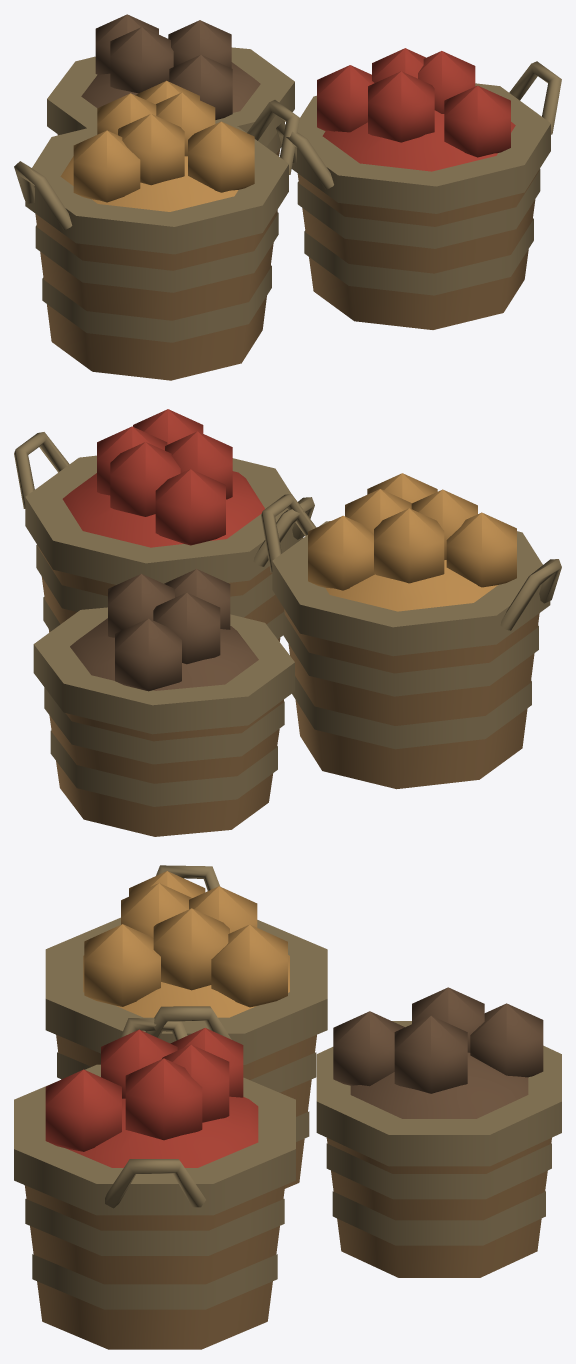
The model's file is goods_basket_s.glb.
The picture shows the model from 3 angles, top to bottom: view 1: azimuth 30°, elevation 25°; view 2: azimuth 150°, elevation 25°; view 3: azimuth 270°, elevation 25°; orthographic projection. The views are drawn at different scales.
Visible parts, largest first — view 1: goods_basket_s; view 2: goods_basket_s; view 3: goods_basket_s.
Part boxes in pixels (box(x1,y1,x2,y2)): goods_basket_s: box(14, 14, 561, 380); goods_basket_s: box(14, 409, 561, 836); goods_basket_s: box(14, 865, 561, 1349).
Size of the model in its own units: 1.08 by 0.4714 by 0.8671.
